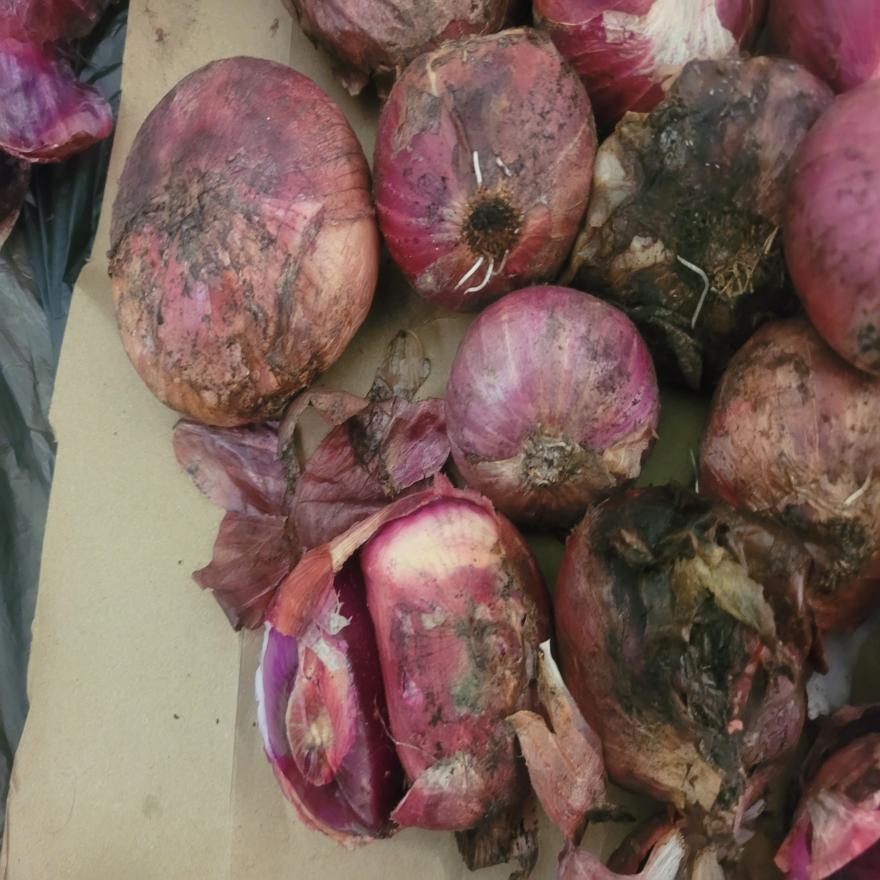Damaged: (244, 489, 554, 870)
